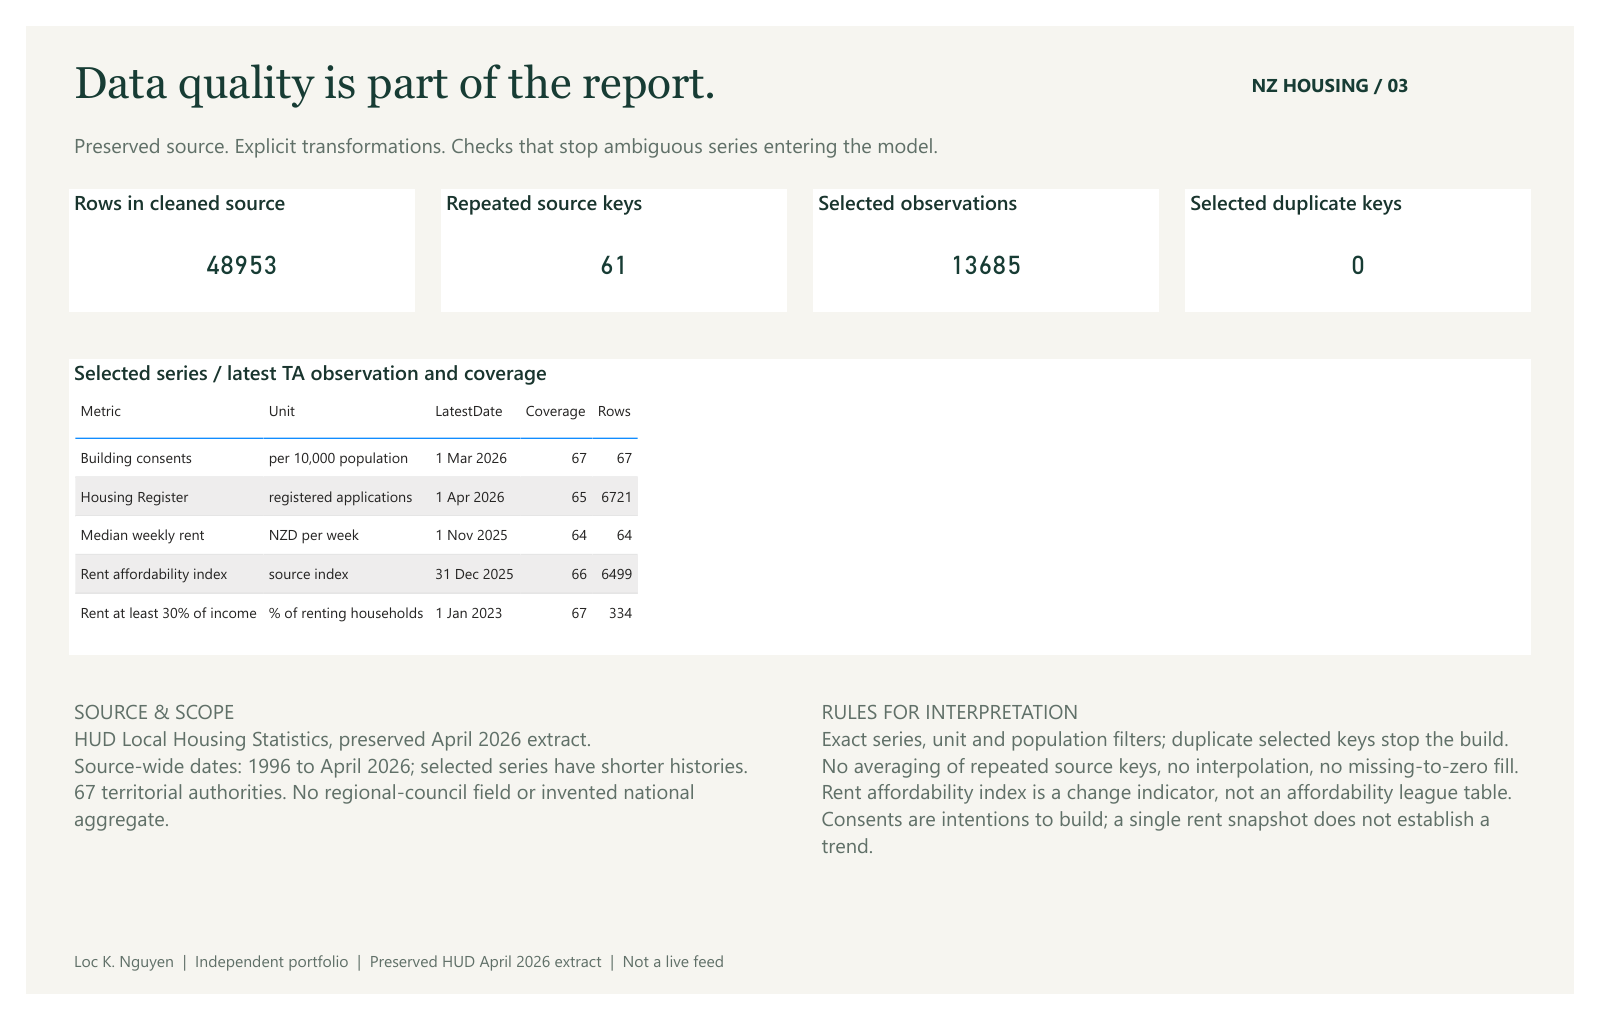

The page's visual inventory and layout, read from the dashboard file:
{"tool":"powerbi","page":{"name":"Data quality is part of the report.","canvas":[1440,900],"ordinal":2},"visuals":[{"type":"textbox","box":[40,25,1090,62],"z":25},{"type":"textbox","box":[1135,38,265,34],"z":38},{"type":"textbox","box":[40,94,1300,38],"z":94},{"type":"card","title":"Rows in cleaned source","fields":{"Values":["Indicator.Source rows"]},"box":[40,152,322,114],"z":152},{"type":"card","title":"Repeated source keys","fields":{"Values":["Indicator.Source repeated keys"]},"box":[386,152,322,114],"z":152},{"type":"card","title":"Selected observations","fields":{"Values":["Indicator.Selected rows"]},"box":[732,152,322,114],"z":152},{"type":"card","title":"Selected duplicate keys","fields":{"Values":["Indicator.Selected duplicate keys"]},"box":[1078,152,322,114],"z":152},{"type":"tableEx","title":"Selected series / latest TA observation and coverage","fields":{"Values":["Indicator.Metric","Indicator.Unit","Indicator.LatestDate","Indicator.Coverage","Indicator.Rows"]},"box":[40,310,1360,275],"z":310},{"type":"textbox","box":[40,620,655,170],"z":620},{"type":"textbox","box":[735,620,665,180],"z":620},{"type":"textbox","box":[40,855,1350,30],"z":855}]}

Visuals, with their boxes in screenshot pixels (x1, y1, x2, y2), scaled from the page's 1440x900 canvas onto the 1600x1020 screenshot:
textbox: [left=44, top=28, right=1256, bottom=99]
textbox: [left=1261, top=43, right=1556, bottom=82]
textbox: [left=44, top=107, right=1489, bottom=150]
"Rows in cleaned source" card: [left=44, top=172, right=402, bottom=301]
"Repeated source keys" card: [left=429, top=172, right=787, bottom=301]
"Selected observations" card: [left=813, top=172, right=1171, bottom=301]
"Selected duplicate keys" card: [left=1198, top=172, right=1556, bottom=301]
"Selected series / latest TA observation and coverage" tableEx: [left=44, top=351, right=1556, bottom=663]
textbox: [left=44, top=703, right=772, bottom=895]
textbox: [left=817, top=703, right=1556, bottom=907]
textbox: [left=44, top=969, right=1544, bottom=1003]
